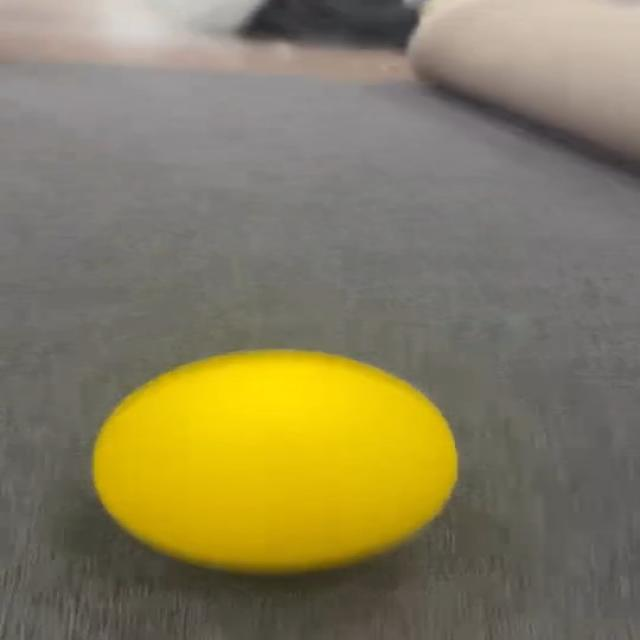Fuels: (92, 349, 460, 573)
